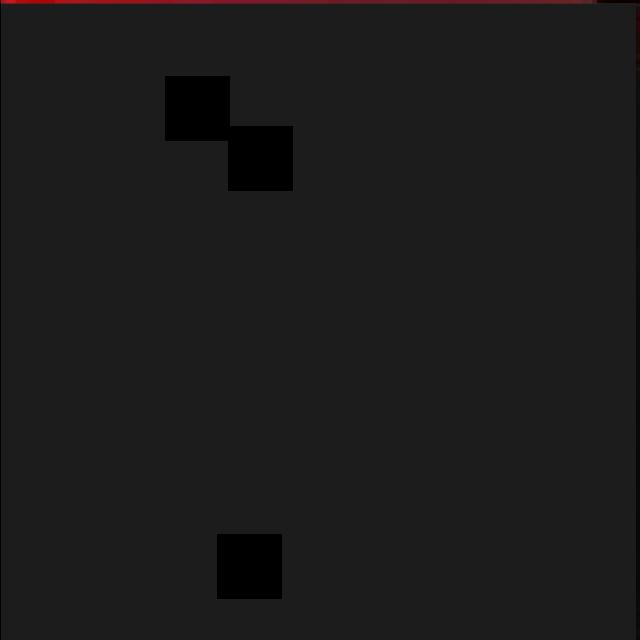smoke: (0, 3, 635, 640)
